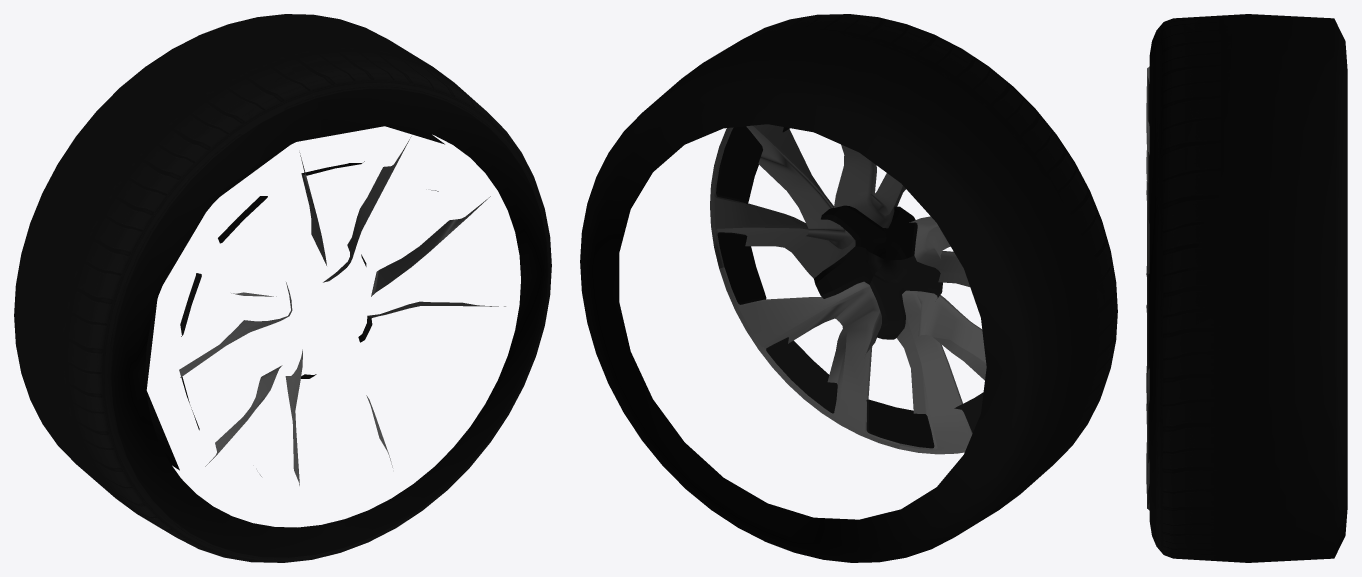
File: Helix_19.glb
The picture shows the model from 3 angles, left to right: view 1: azimuth 30°, elevation 25°; view 2: azimuth 150°, elevation 25°; view 3: azimuth 270°, elevation 25°; orthographic projection. The views are drawn at different scales.
Parts seen in each view (by area): view 1: Wheel_Helix; view 2: Wheel_Helix; view 3: Wheel_Helix.
Part boxes in pixels (left/top/right/bottom): Wheel_Helix: left=14, top=14, right=551, bottom=562; Wheel_Helix: left=580, top=14, right=1117, bottom=562; Wheel_Helix: left=1146, top=14, right=1347, bottom=562.
Size of the model in its own units: 0.6735 by 0.6722 by 0.2473.
2 materials, 2 textured.
